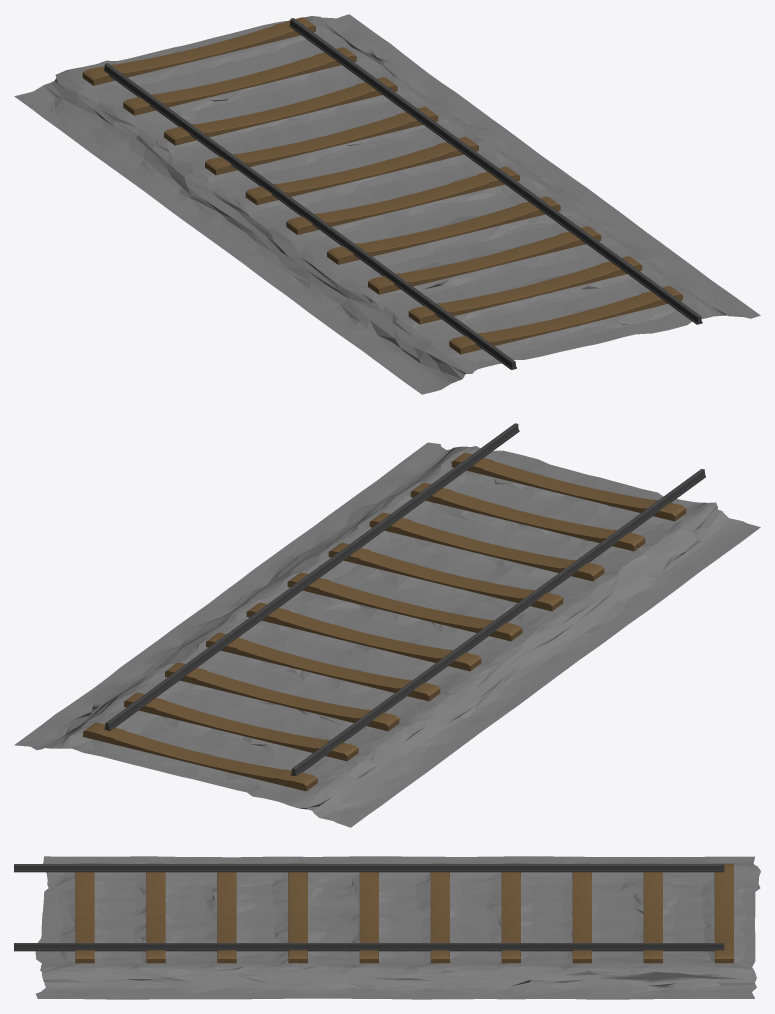
The model's file is TramRails.fbx.
The picture shows the model from 3 angles, top to bottom: view 1: azimuth 30°, elevation 25°; view 2: azimuth 150°, elevation 25°; view 3: azimuth 270°, elevation 25°; orthographic projection. The views are drawn at different scales.
Parts seen in each view (by area): view 1: Gravilla1, Rails, Trav0, Trav8, Trav2, Trav9, Trav1, Trav3, Trav4, Trav6, Trav7, Trav5; view 2: Gravilla1, Rails, Trav0, Trav8, Trav7, Trav9, Trav5, Trav4, Trav6, Trav1, Trav2, Trav3; view 3: Gravilla1, Rails, Trav0, Trav1, Trav2, Trav3, Trav4, Trav7, Trav8, Trav9, Trav5, Trav6.
Part boxes in pixels (x1,y1,x2,y2): Gravilla1: (14,14,760,394); Rails: (103,18,702,369); Trav0: (82,17,315,85); Trav8: (408,256,642,324); Trav2: (164,77,397,145); Trav9: (449,286,682,354); Trav1: (123,47,356,115); Trav3: (205,107,438,175); Trav4: (245,136,478,205); Trav6: (327,196,560,264); Trav7: (368,226,601,294); Trav5: (286,166,519,234); Gravilla1: (14,442,760,827); Rails: (104,423,705,775); Trav0: (83,722,317,791); Trav8: (410,482,645,551); Trav7: (369,512,604,581); Trav9: (451,452,686,521); Trav5: (287,572,522,641); Trav4: (246,602,481,671); Trav6: (328,542,563,611); Trav1: (124,692,358,761); Trav2: (165,662,399,731); Trav3: (206,632,440,701); Gravilla1: (35,856,760,999); Rails: (14,864,724,951); Trav0: (714,863,733,963); Trav1: (643,863,662,963); Trav2: (572,863,591,963); Trav3: (501,863,520,963); Trav4: (430,863,449,963); Trav7: (217,863,236,963); Trav8: (146,863,165,963); Trav9: (75,863,94,963); Trav5: (359,863,378,963); Trav6: (288,863,307,963).
Bounding box in the file's own units: 1427 × 114 × 3154.
